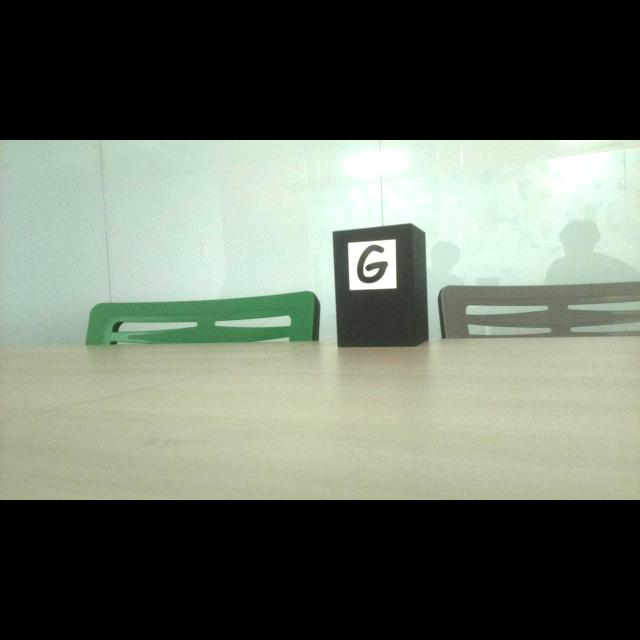G: (357, 244, 388, 283)
